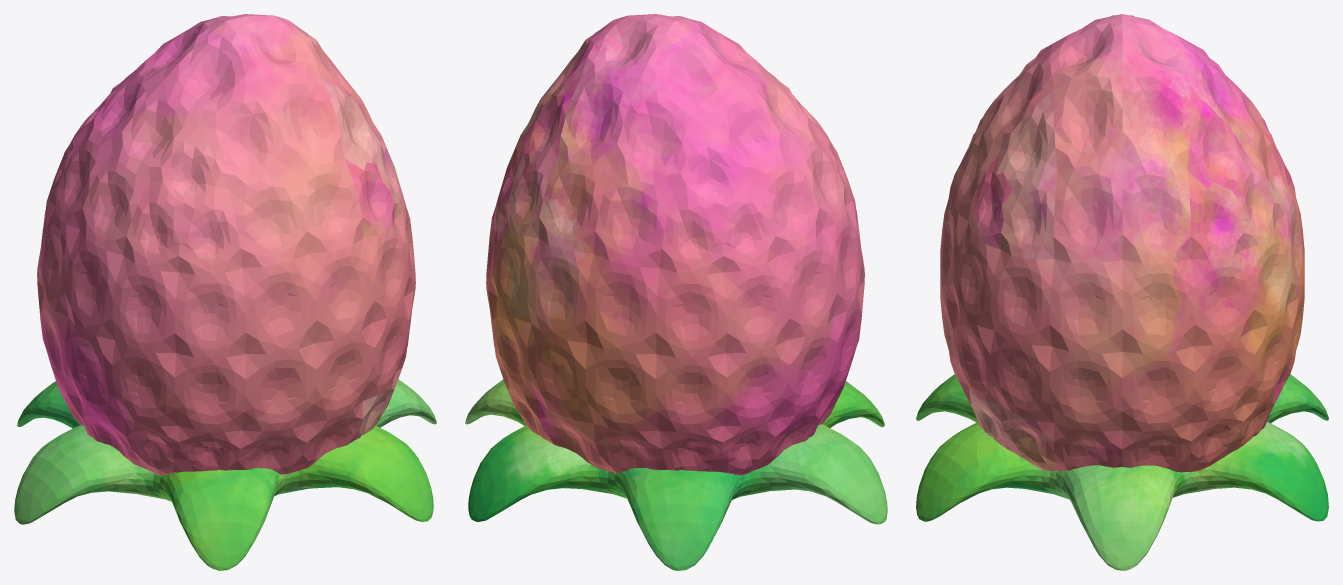
Rendered from itugo.obj.
3 views of the same model, side by side, from view 1: azimuth 30°, elevation 25°; view 2: azimuth 150°, elevation 25°; view 3: azimuth 270°, elevation 25° (orthographic).
Visible parts, largest first — view 1: 立方体; view 2: 立方体; view 3: 立方体.
Boxes of the visible parts, box(x1,y1,x2,y2) form: 立方体: box(14, 14, 436, 570); 立方体: box(465, 14, 887, 570); 立方体: box(916, 14, 1328, 570).
Bounding box in the file's own units: 0.7223 × 0.8691 × 0.6177.
1 material, 1 textured.
